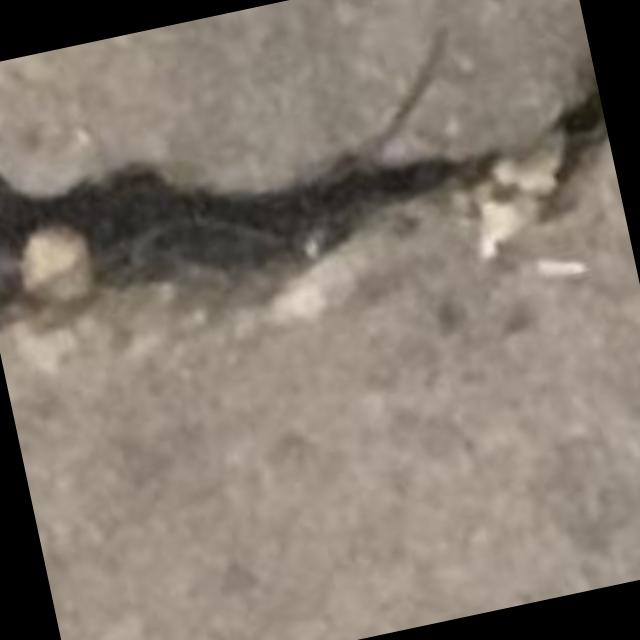crack: (0, 94, 603, 326)
